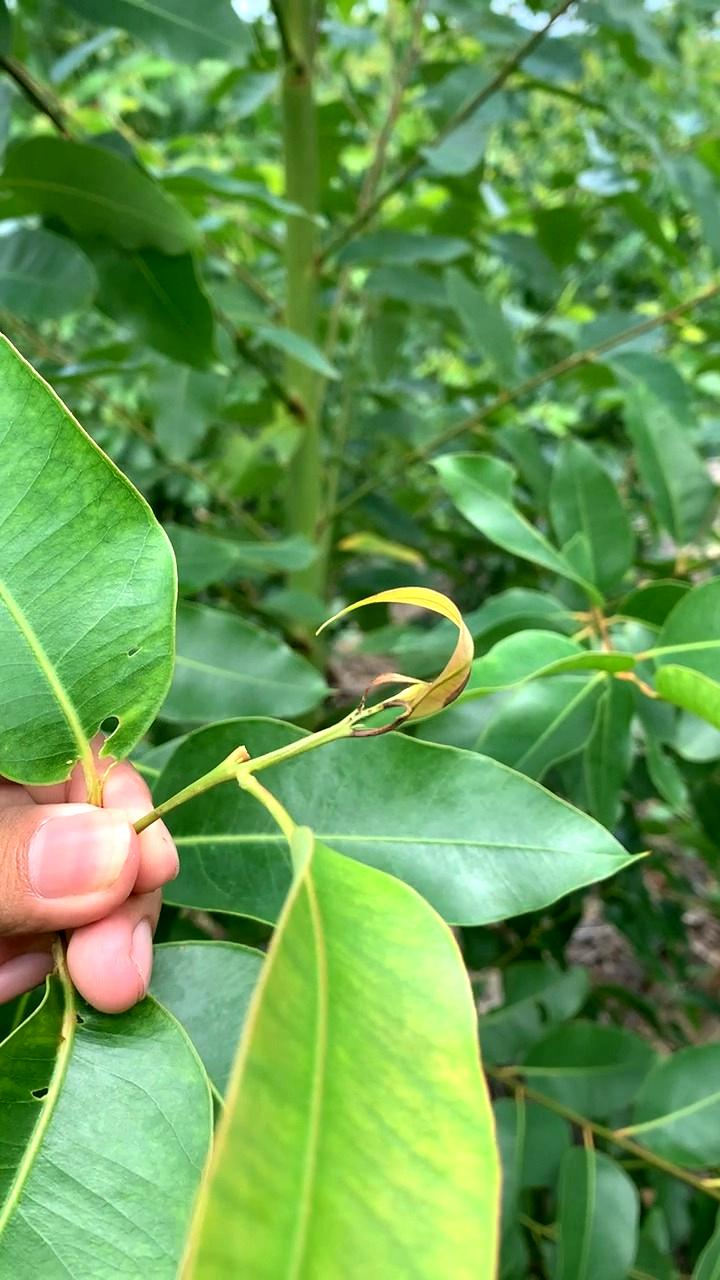Helopeltis-Withered Sprout: (325, 583, 483, 733)
